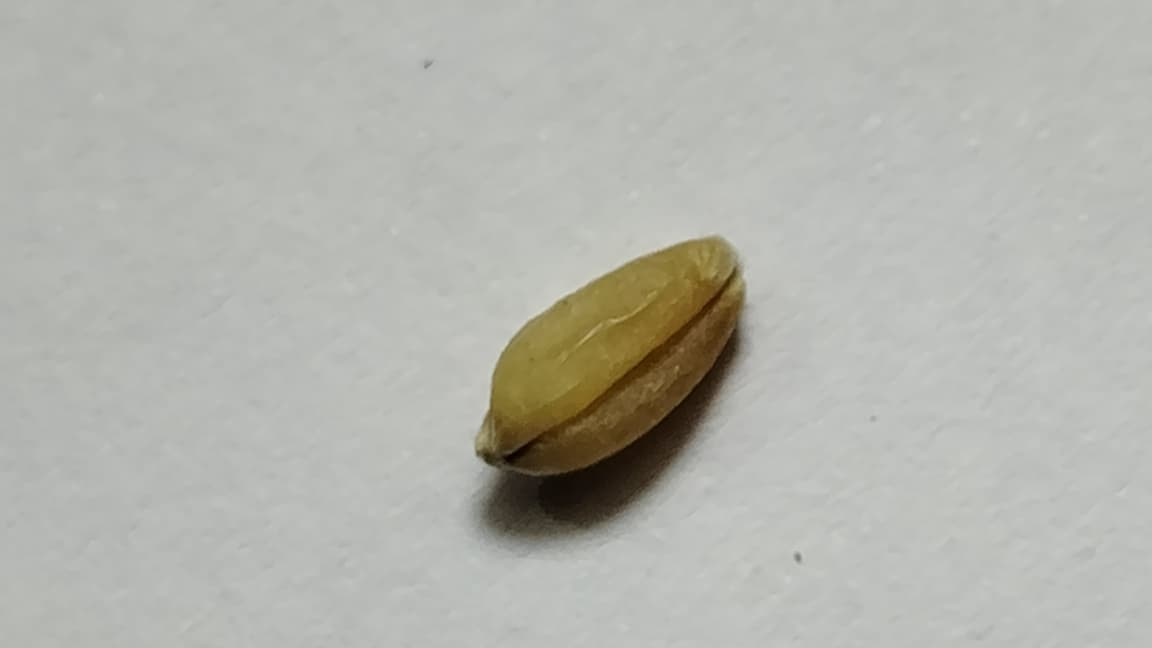healthy: (475, 236, 744, 473)
